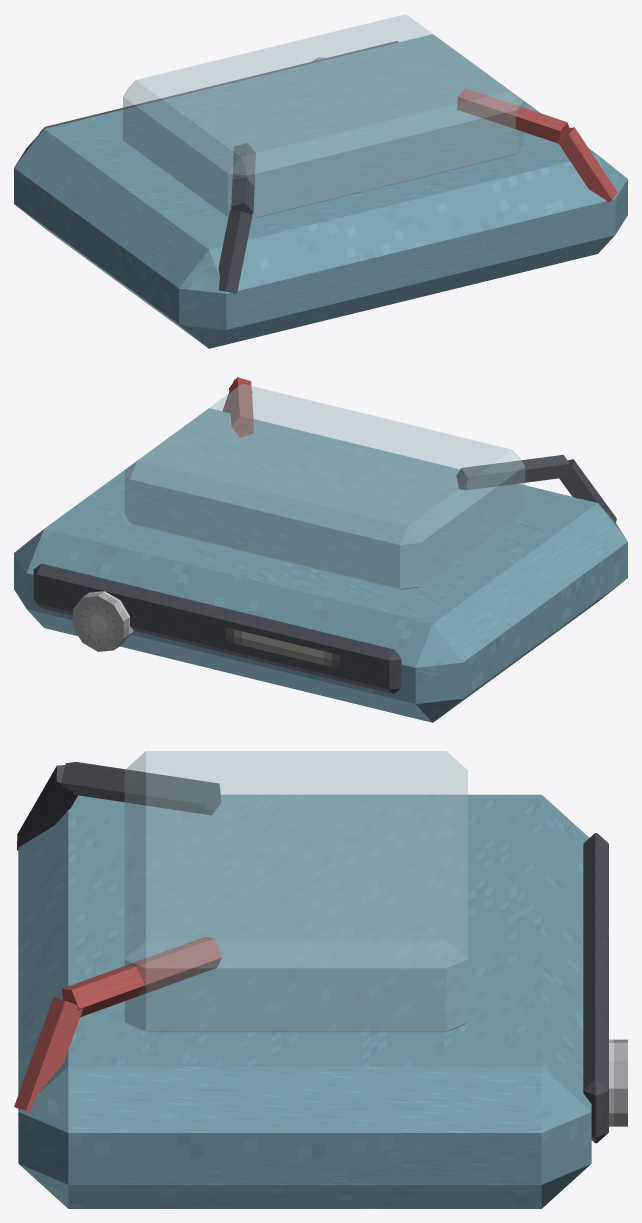
Rendered from gelbox.glb.
3 renders of one model, top to bottom at view 1: azimuth 30°, elevation 25°; view 2: azimuth 150°, elevation 25°; view 3: azimuth 270°, elevation 25°, orthographic. The views are drawn at different scales.
Visible parts, largest first — view 1: block_instrument housing, block_electrophoresis tray, block_terminal wire 0 (×2), block_terminal wire 1 (×2), block_instrument control panel; view 2: block_instrument housing, block_electrophoresis tray, block_instrument control panel, block_terminal wire 0 (×2), block_control knob, block_instrument readout, block_terminal wire 1; view 3: block_instrument housing, block_electrophoresis tray, block_terminal wire 0 (×2), block_instrument control panel, block_terminal wire 1 (×2), block_control knob.
Part boxes in pixels (x1,y1,x2,y2): block_instrument housing: [14, 34, 627, 348]; block_electrophoresis tray: [123, 14, 523, 218]; block_terminal wire 0 (×2): [231, 88, 569, 214]; block_terminal wire 1 (×2): [218, 127, 617, 294]; block_instrument control panel: [38, 41, 398, 134]; block_instrument housing: [14, 408, 627, 722]; block_electrophoresis tray: [124, 384, 525, 589]; block_instrument control panel: [33, 563, 401, 693]; block_terminal wire 0 (×2): [229, 377, 569, 490]; block_control knob: [72, 591, 133, 651]; block_instrument readout: [226, 627, 339, 668]; block_terminal wire 1: [559, 459, 616, 522]; block_instrument housing: [18, 794, 591, 1208]; block_electrophoresis tray: [124, 751, 467, 1032]; block_terminal wire 0 (×2): [61, 762, 221, 1016]; block_instrument control panel: [583, 833, 608, 1143]; block_terminal wire 1 (×2): [14, 765, 83, 1112]; block_control knob: [609, 1039, 627, 1126].
Bounding box in the file's own units: 0.3249 × 0.1092 × 0.2682.
2 materials, 2 textured.
